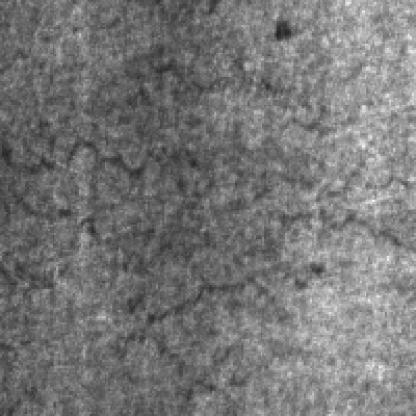crazing: (2, 131, 208, 262), (118, 275, 274, 395), (227, 162, 412, 254)
